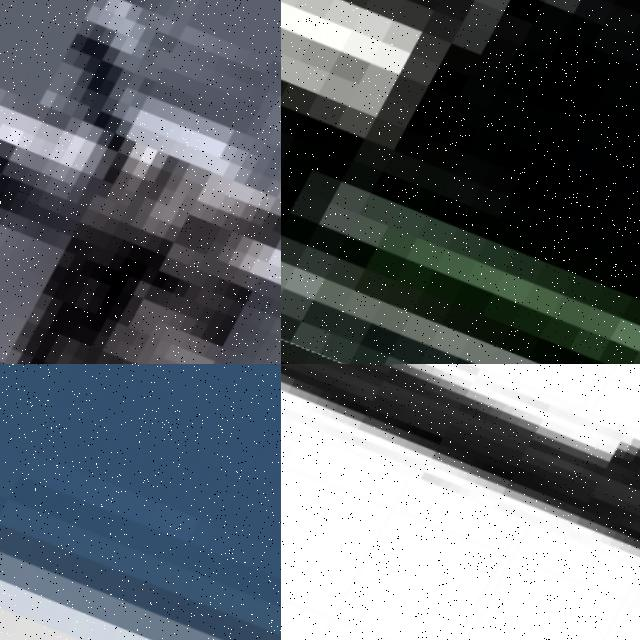drone: (281, 0, 640, 364), (0, 0, 281, 364), (281, 364, 640, 640), (0, 364, 281, 640)
